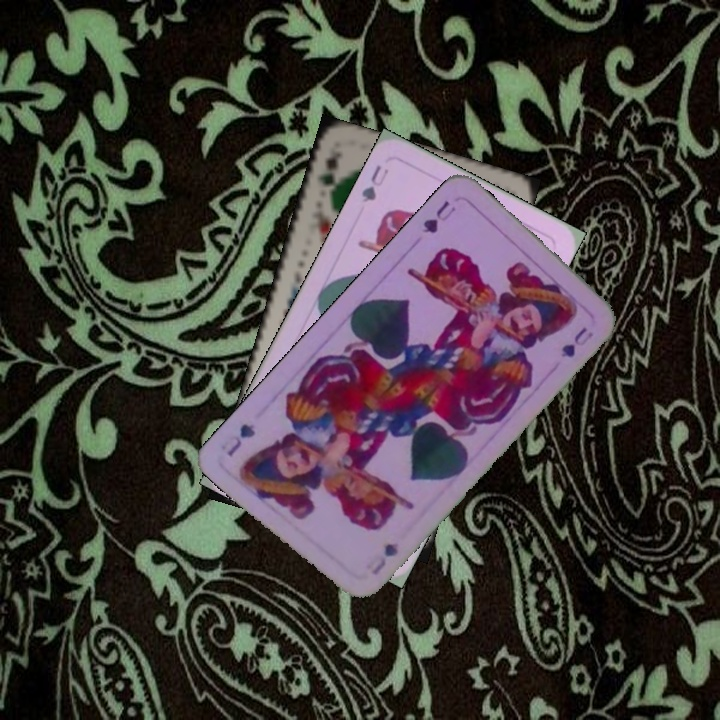GK: (317, 143, 346, 204)
GU: (418, 196, 459, 236), (357, 160, 392, 205), (367, 538, 401, 578)
